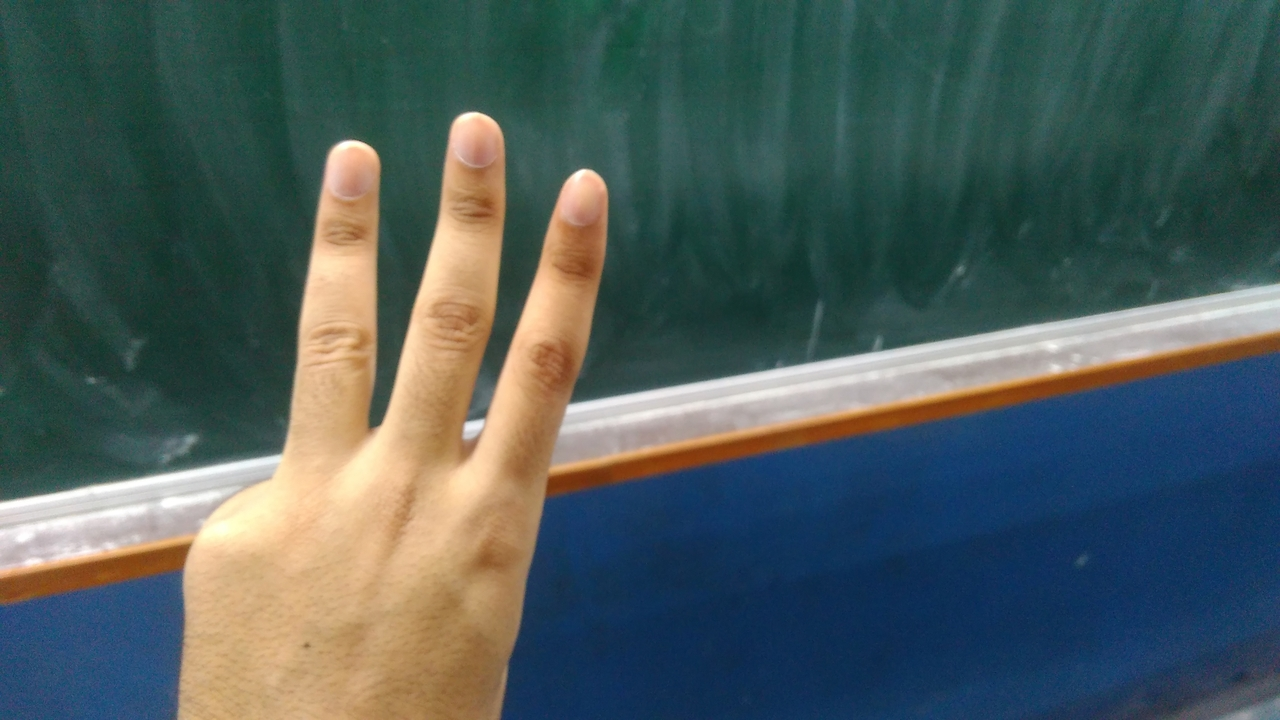fingertip: (544, 160, 612, 232), (436, 108, 504, 174), (310, 138, 380, 200)
